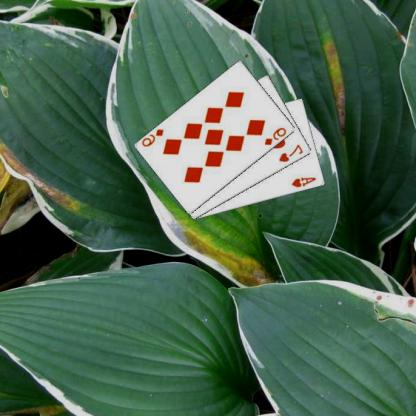7H: (278, 142, 306, 163)
9D: (264, 125, 290, 147), (141, 126, 167, 148)
AH: (290, 174, 319, 188)
